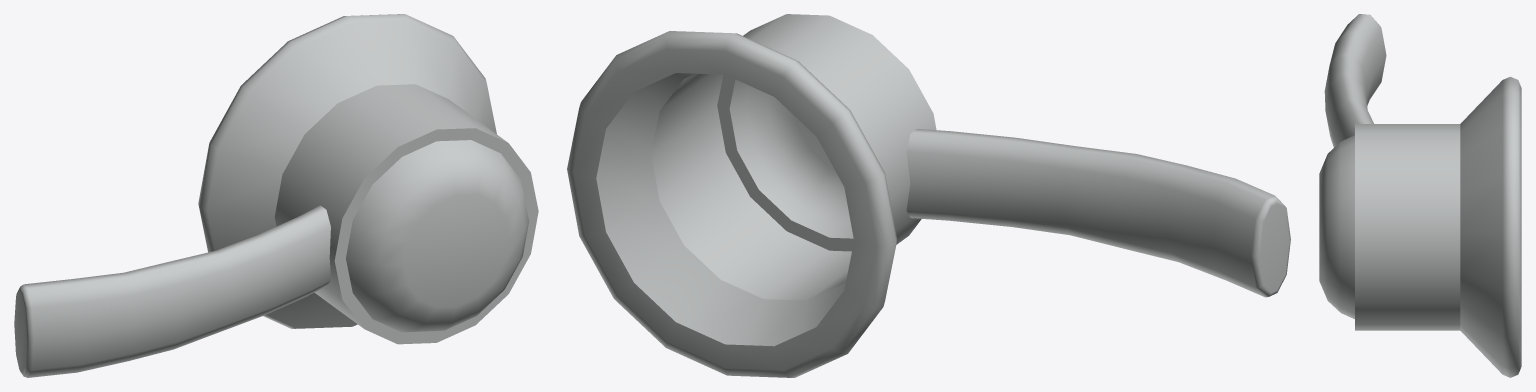
Rendered from MeshSinkFaucetKnobL_2_1.obj.
3 views of the same model, side by side, from view 1: azimuth 30°, elevation 25°; view 2: azimuth 150°, elevation 25°; view 3: azimuth 270°, elevation 25° (orthographic). The views are drawn at different scales.
Visible parts, largest first — view 1: SinkFaucetKnobL_2; view 2: SinkFaucetKnobL_2; view 3: SinkFaucetKnobL_2.
Boxes of the visible parts, x1,y1,x2,y2 form: SinkFaucetKnobL_2: [14, 14, 538, 377]; SinkFaucetKnobL_2: [567, 14, 1290, 377]; SinkFaucetKnobL_2: [1319, 14, 1521, 377].
Bounding box in the file's own units: 0.1699 × 0.0898 × 0.0602.
